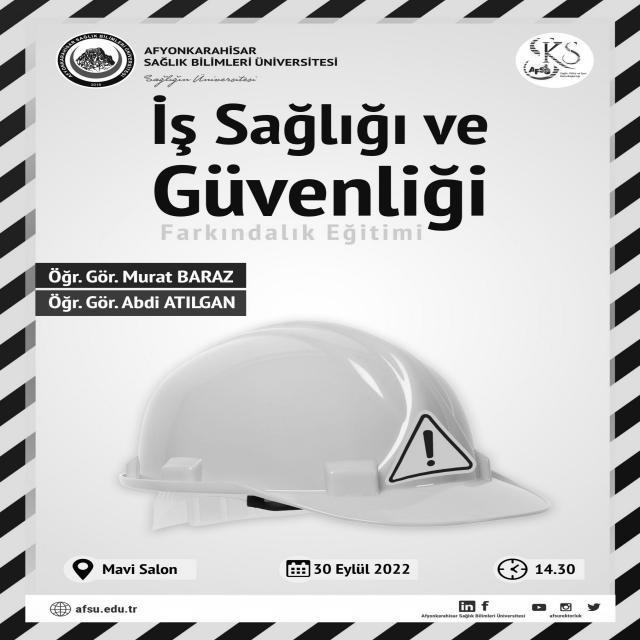safety_helmet: (119, 320, 549, 529)
